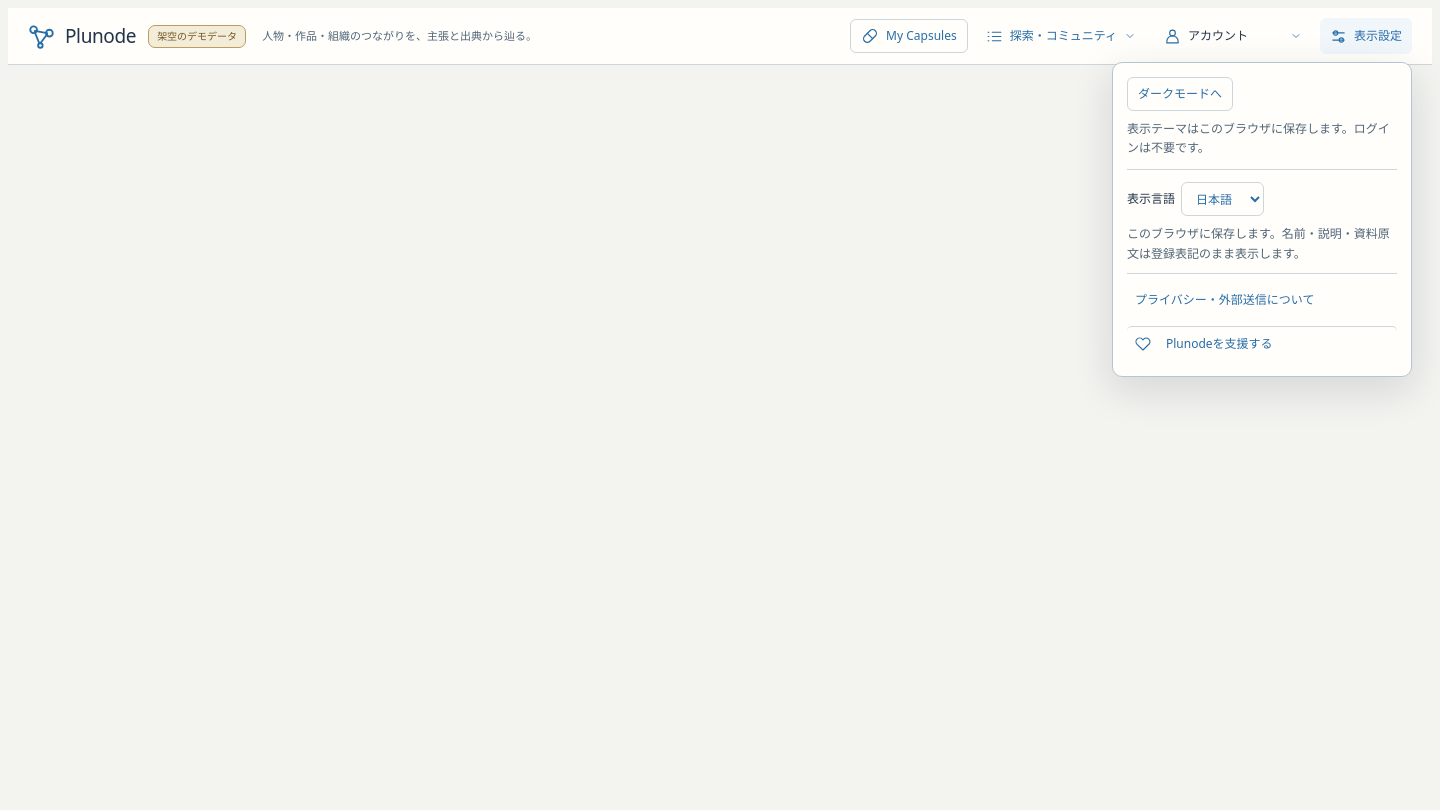
最小アカウント設定 › 保存不能でもその画面のテーマを使え、破損した値は安全な既定へ戻す
Click the button "ダークモードへ" at (1180,94), box [1127,77,1233,111]
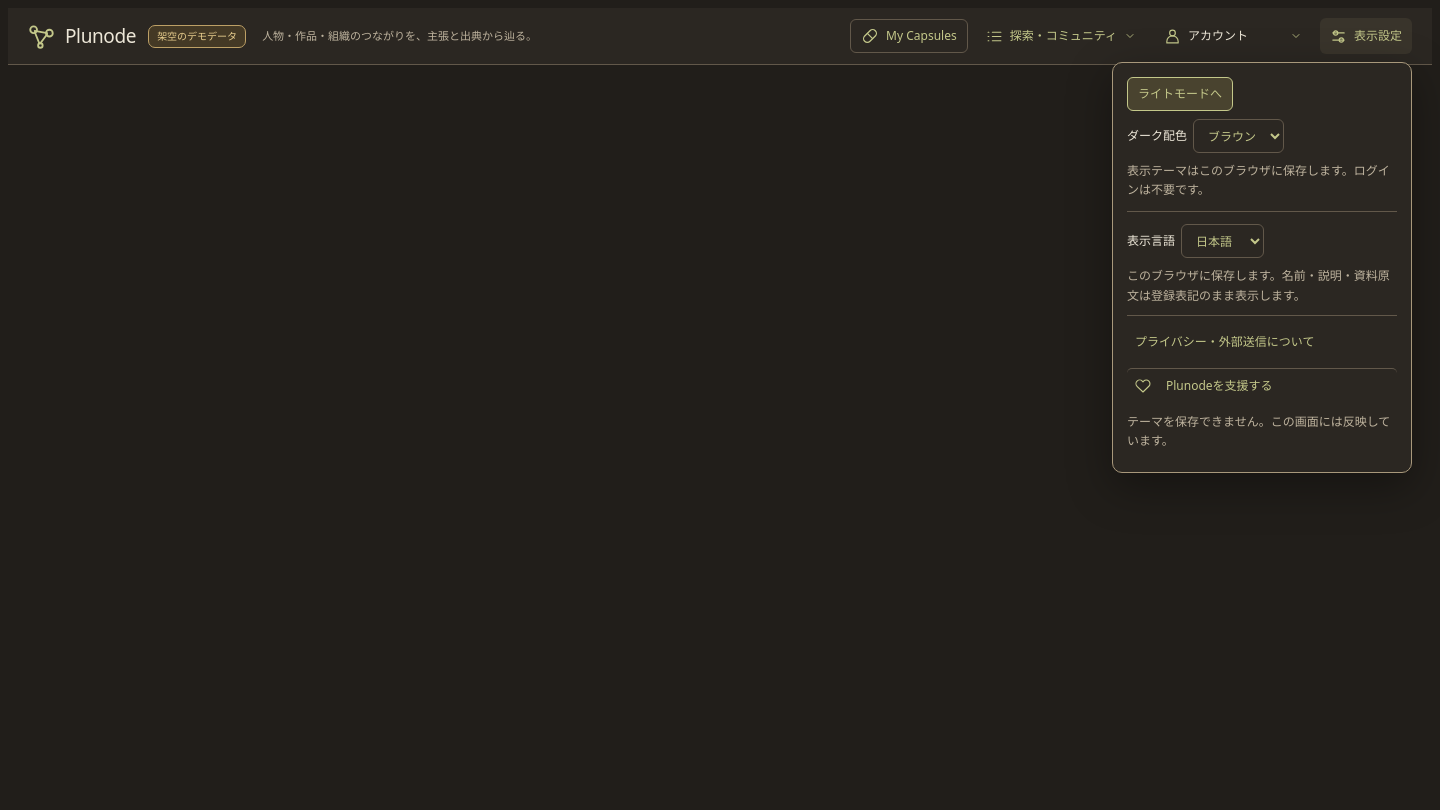
Now the text "テーマを保存できません。この画面には反映しています。" is shown, box [1127,412,1397,450]
